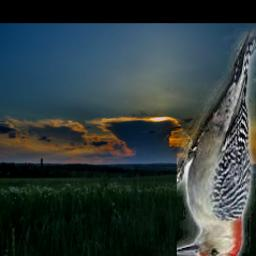Woodpecker: (177, 28, 256, 256)
